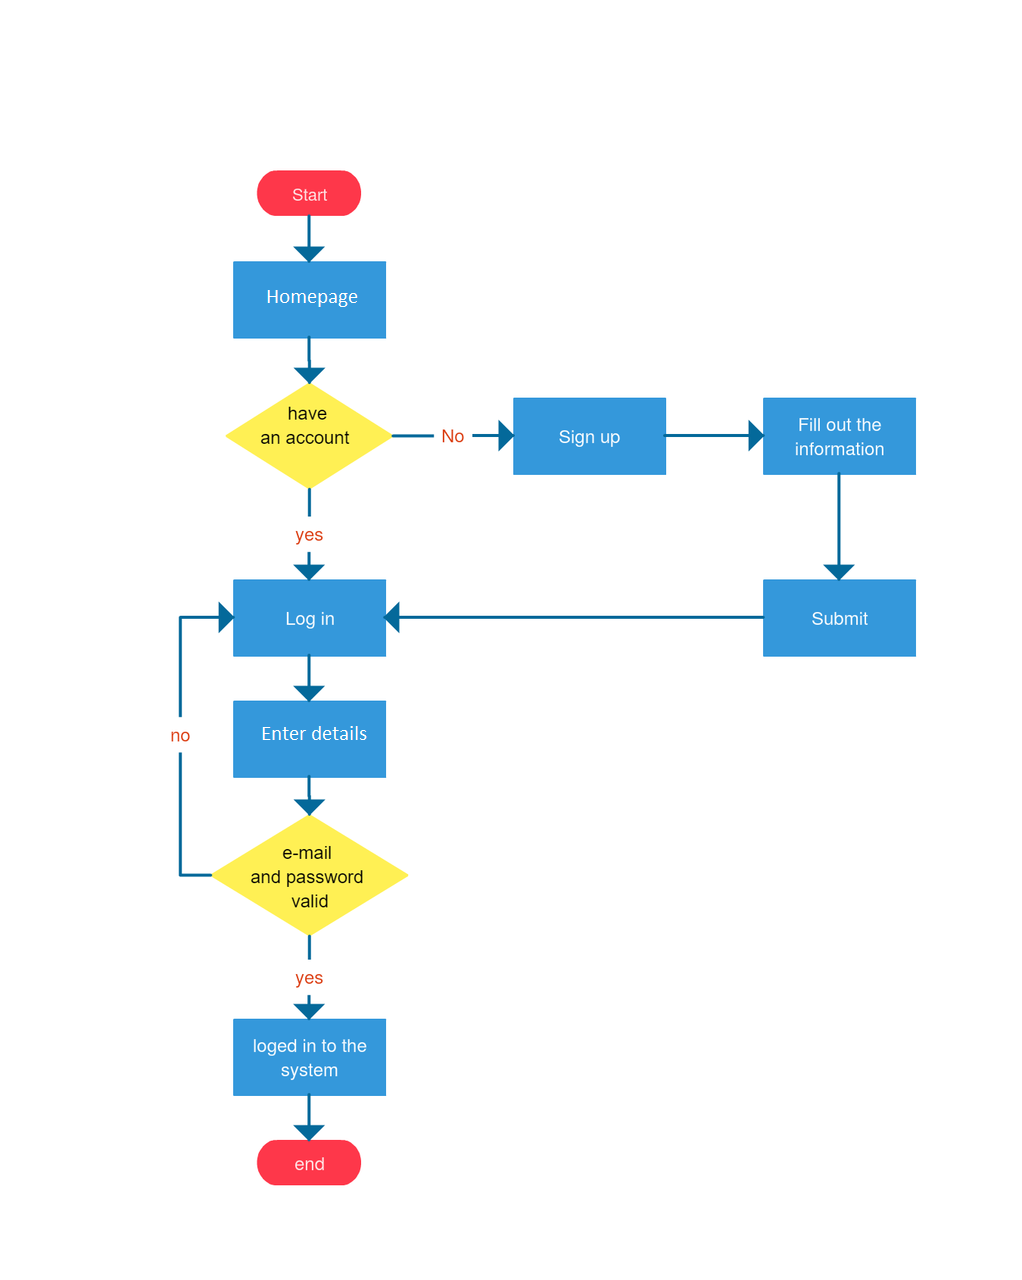arrow: (172, 596, 239, 882), (380, 596, 762, 637), (384, 423, 515, 453), (290, 486, 327, 584), (658, 419, 762, 451), (290, 933, 327, 1021), (823, 478, 854, 580), (290, 770, 327, 821), (290, 335, 328, 384), (290, 647, 323, 704), (292, 210, 327, 261), (296, 1092, 325, 1149)
decision: (201, 808, 413, 941), (221, 378, 390, 494)
process: (756, 390, 921, 479), (229, 570, 392, 661), (505, 392, 674, 478), (756, 572, 919, 661), (225, 257, 394, 341), (227, 696, 392, 782), (227, 1014, 390, 1100)
terminator: (248, 165, 364, 221), (250, 1135, 366, 1190)
text: (245, 845, 370, 915), (247, 1031, 370, 1080), (790, 412, 896, 461), (258, 407, 354, 449), (260, 280, 366, 312), (258, 719, 368, 747), (552, 423, 619, 453), (279, 606, 339, 633), (811, 606, 872, 631), (286, 182, 339, 206), (286, 968, 331, 996), (286, 1149, 328, 1172), (286, 519, 323, 545), (437, 423, 466, 449), (166, 725, 196, 747)
